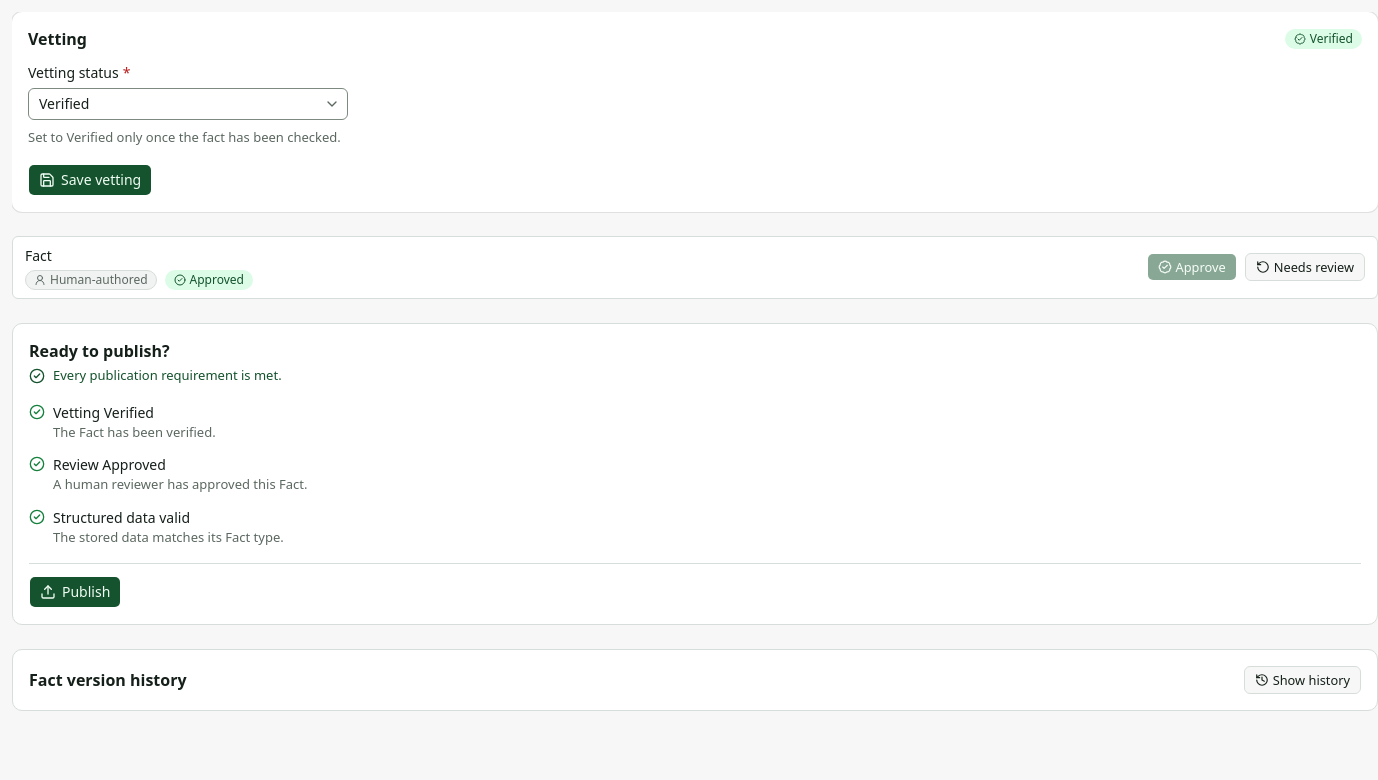
Test case: FactTrustPanel › publishes a ready Fact and reports the server outcome
Click the button "Publish". click: coordinates (75, 592)
box: left=29, top=576, right=121, bottom=608
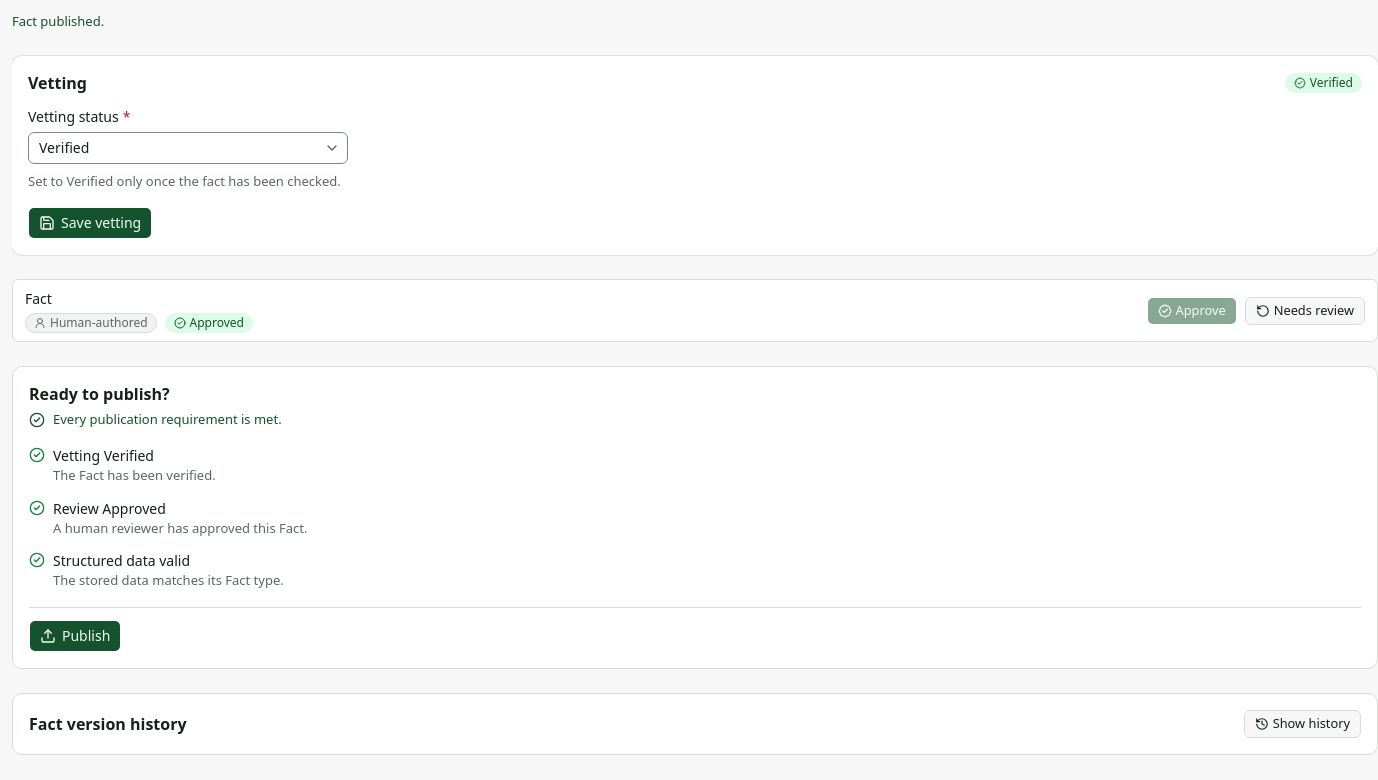
Now the text "Fact published." is shown, box left=12, top=12, right=104, bottom=30
